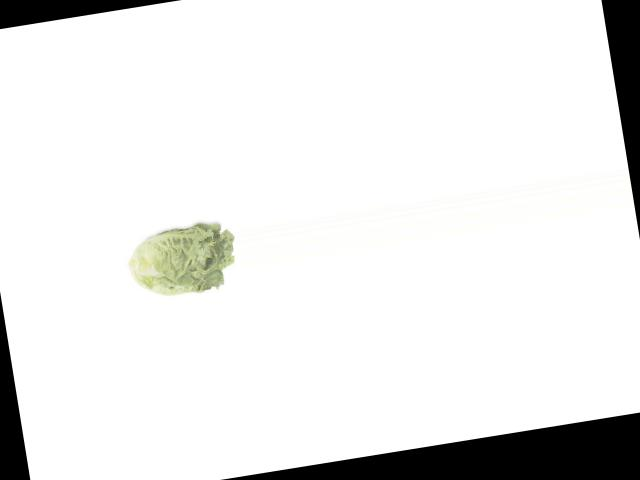lettuce: (122, 214, 240, 309)
